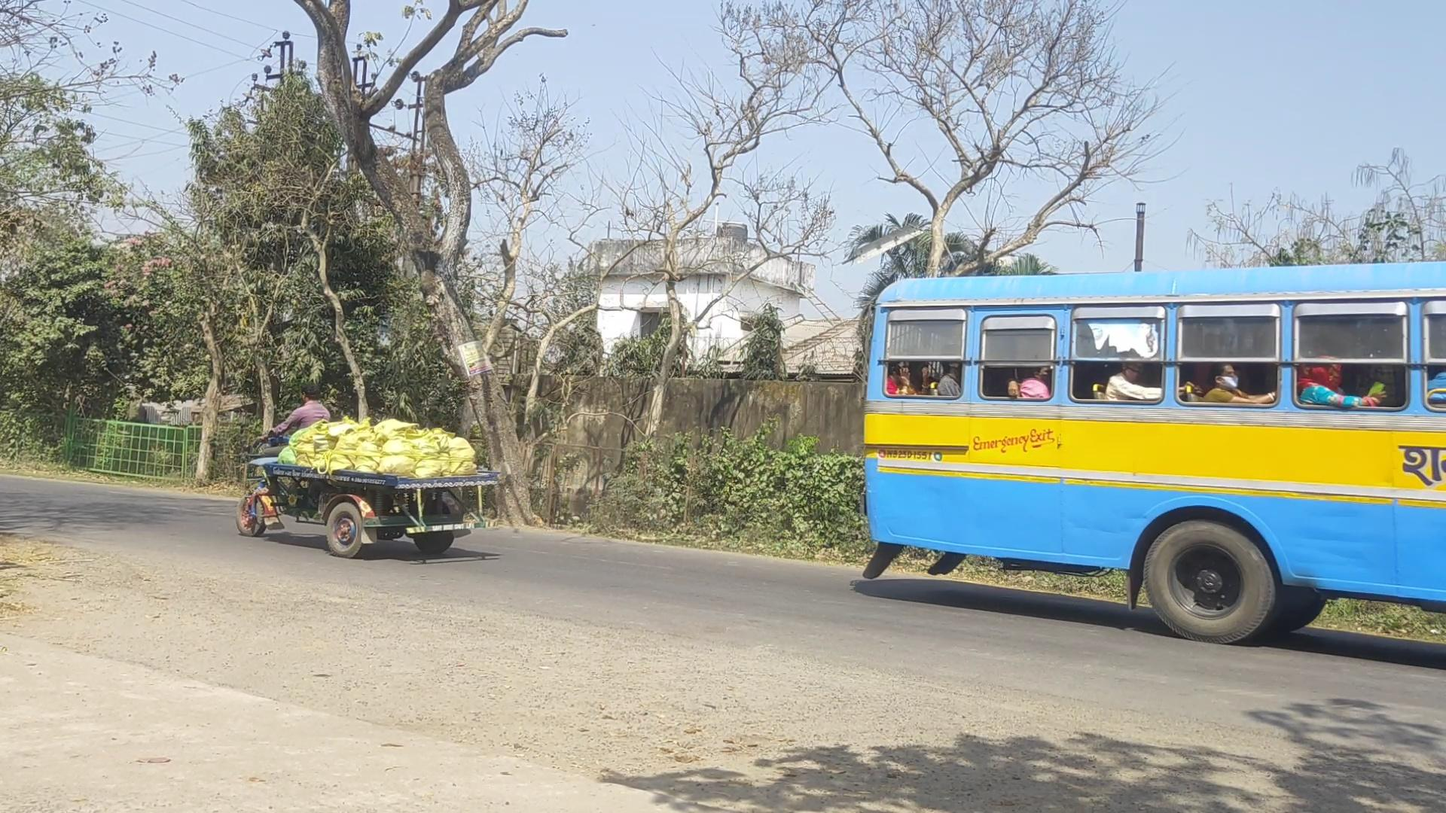Bus: (862, 260, 1446, 649)
